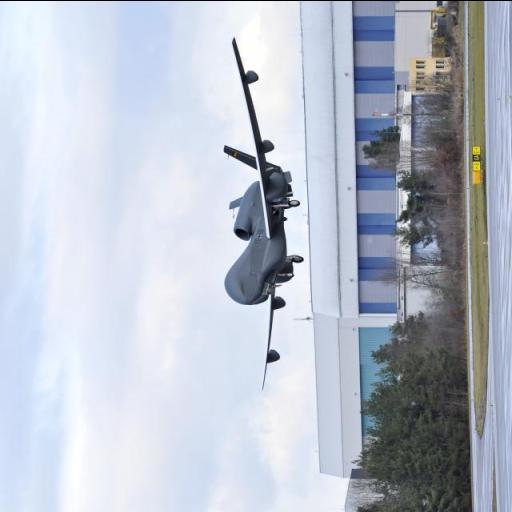uav: (212, 32, 316, 398)
